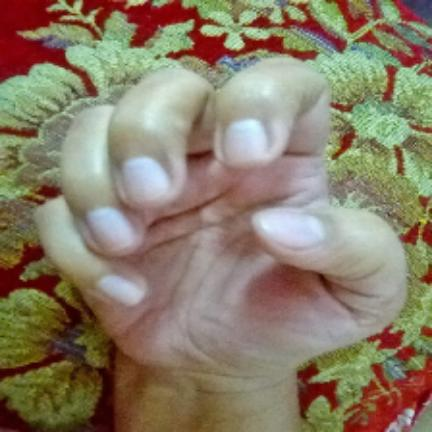Nail: (86, 207, 141, 253), (259, 211, 325, 248), (122, 157, 170, 200), (224, 118, 268, 162), (99, 274, 145, 305)
